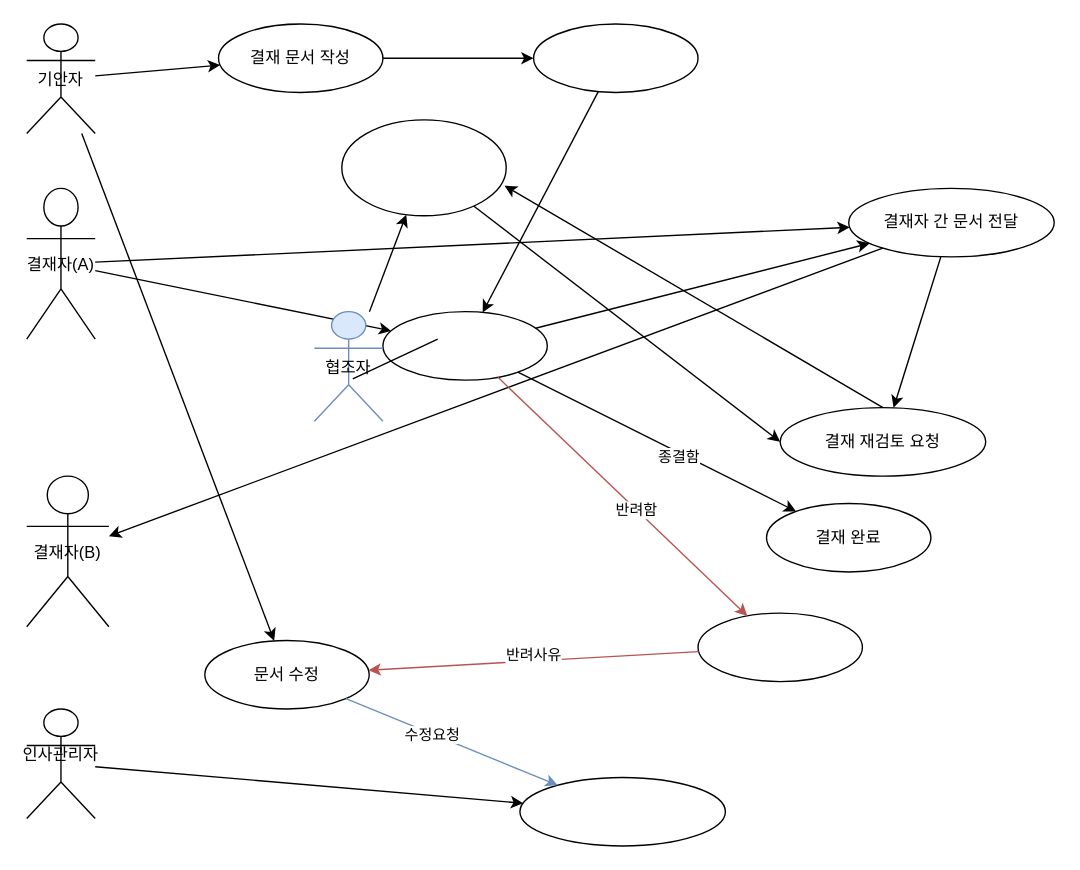
This 1080x870 diagram has some shape labels left out. Here are the shapes that lost their labels. From the top down, the centre of each, then its label:
At [615,57]: "결재 요청".
At [423,167]: "의견 제출".
At [464,345]: "결재 진행".
At [779,647]: "결재 반려".
At [622,811]: "관리자 승인 후 수정".
